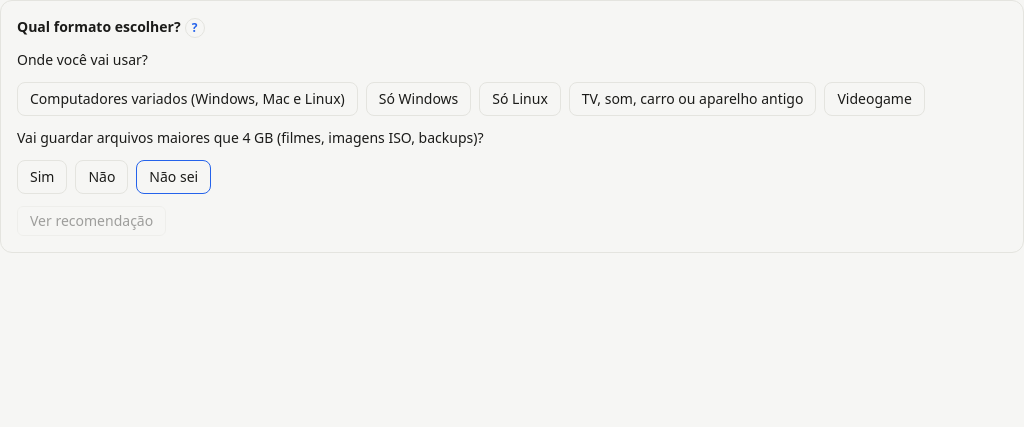
Scenario: assistente de formatação › pergunta, mostra a recomendação explicada e aplica
Later steps or results of the test are not shown.
Expected: the button "Ver recomendação" is disabled, [17,206,166,236]
What coordinates should you click on to do the following:
click the radio button labelled "TV, som, carro ou aparelho antigo"
I would click on:
 (693, 99)
Its box is [569,82,816,116].
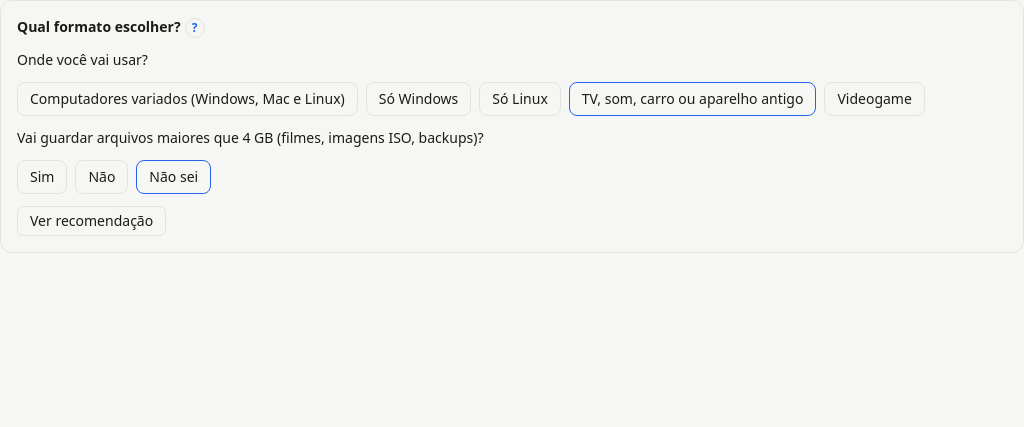
What coordinates should you click on to do the following:
click the radio button labelled "Sim"
I would click on:
 (42, 177)
Its box is [17,160,67,194].
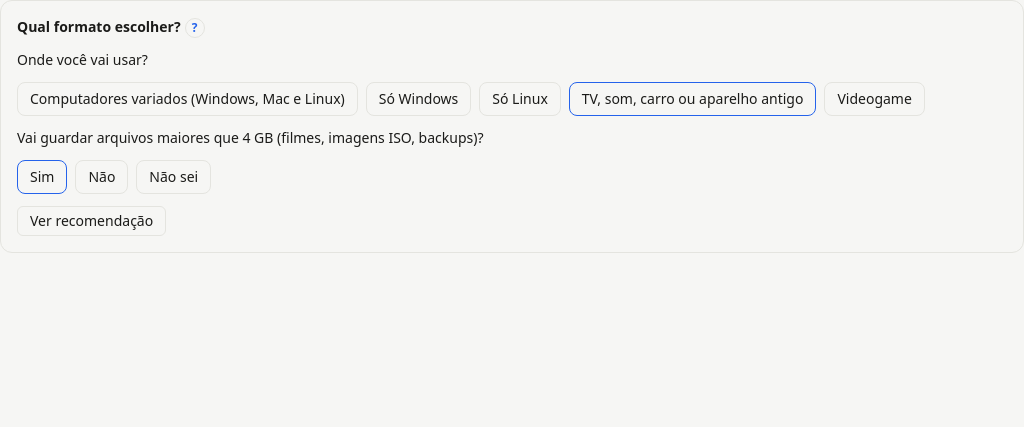
What coordinates should you click on to do the following:
click the button "Ver recomendação"
I would click on:
 (92, 221)
Its box is [17,206,166,236].
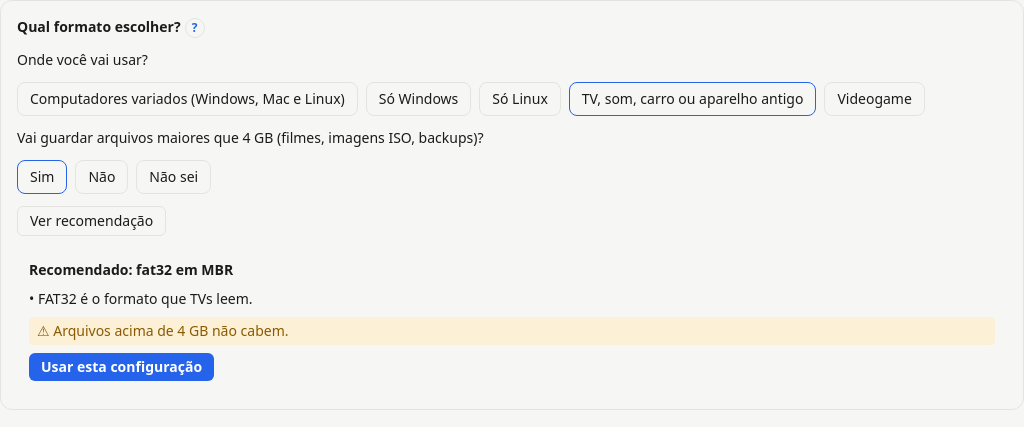
Expected: the list item "• FAT32 é o formato que TVs leem." is shown, [29,289,253,308]
Expected: the list item "⚠ Arquivos acima de 4 GB não cabem." is shown, [29,317,995,345]
